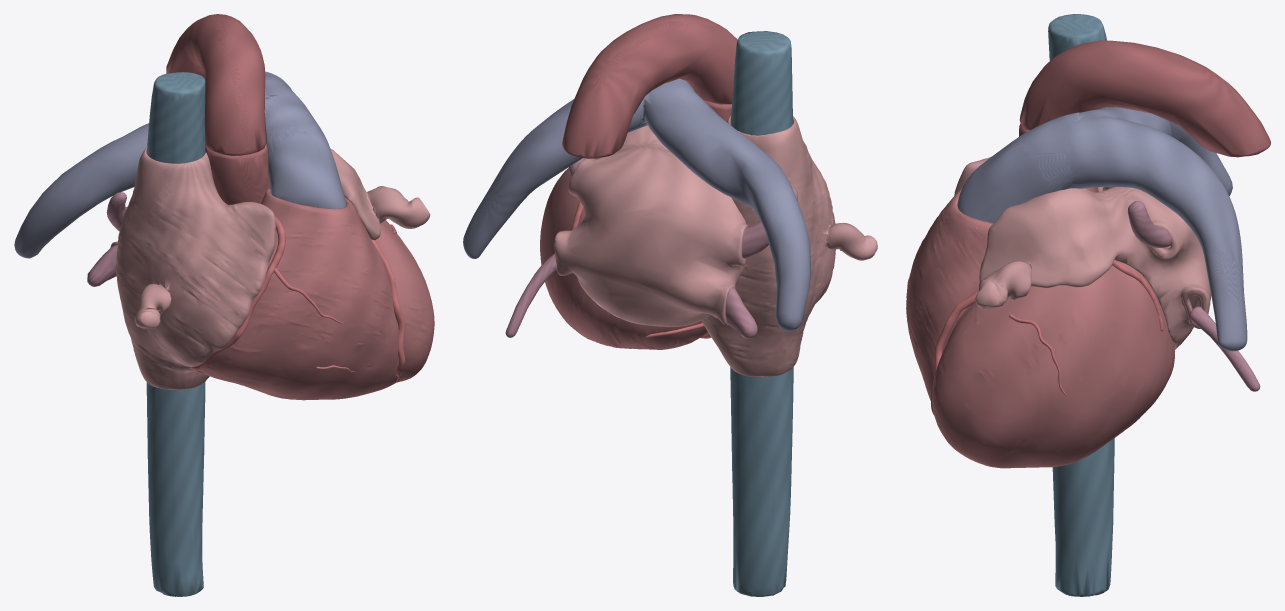
The model's file is cardiotwin-heart-final-v9.glb.
3 views of the same model, side by side, from view 1: azimuth 30°, elevation 25°; view 2: azimuth 150°, elevation 25°; view 3: azimuth 270°, elevation 25° (orthographic). The views are drawn at different scales.
Parts seen in each view (by area): view 1: heart_right_ventricular_wall, heart_right_atrium, heart_aorta, heart_inferior_vena_cava, heart_right_pulmonary_artery, heart_pulmonary_trunk, heart_superior_vena_cava, heart_interventricular_septum, heart_left_pulmonary_artery, heart_left_atrial_appendage, heart_left_ventricular_wall, heart_left_atrium (+5 smaller); view 2: heart_left_atrium, heart_aorta, heart_right_pulmonary_artery, heart_inferior_vena_cava, heart_right_atrium, heart_left_pulmonary_artery, heart_left_ventricular_wall, heart_superior_vena_cava, heart_right_atrial_appendage, heart_left_inferior_pulmonary_vein, heart_right_inferior_pulmonary_vein, heart_right_superior_pulmonary_vein; view 3: heart_left_ventricular_wall, heart_left_atrium, heart_left_pulmonary_artery, heart_aorta, heart_right_ventricular_wall, heart_inferior_vena_cava, heart_pulmonary_trunk, heart_left_atrial_appendage, heart_right_pulmonary_artery, heart_superior_vena_cava, heart_left_inferior_pulmonary_vein, heart_left_superior_pulmonary_vein (+3 smaller).
Boxes of the visible parts, left/top/right/bottom form: heart_right_ventricular_wall: left=197, top=188, right=398, bottom=400; heart_right_atrium: left=116, top=147, right=275, bottom=389; heart_aorta: left=166, top=14, right=270, bottom=204; heart_inferior_vena_cava: left=146, top=381, right=205, bottom=596; heart_right_pulmonary_artery: left=14, top=88, right=284, bottom=258; heart_pulmonary_trunk: left=264, top=94, right=346, bottom=208; heart_superior_vena_cava: left=147, top=72, right=205, bottom=163; heart_interventricular_septum: left=375, top=228, right=425, bottom=381; heart_left_pulmonary_artery: left=265, top=71, right=315, bottom=156; heart_left_atrial_appendage: left=366, top=186, right=430, bottom=228; heart_left_ventricular_wall: left=380, top=220, right=434, bottom=369; heart_left_atrium: left=110, top=149, right=381, bottom=247; heart_left_atrium: left=554, top=125, right=748, bottom=326; heart_aorta: left=562, top=14, right=737, bottom=158; heart_right_pulmonary_artery: left=643, top=78, right=810, bottom=331; heart_inferior_vena_cava: left=730, top=367, right=793, bottom=596; heart_right_atrium: left=701, top=115, right=835, bottom=376; heart_left_pulmonary_artery: left=463, top=91, right=651, bottom=258; heart_left_ventricular_wall: left=540, top=168, right=686, bottom=349; heart_superior_vena_cava: left=730, top=31, right=792, bottom=135; heart_right_atrial_appendage: left=823, top=217, right=877, bottom=260; heart_left_inferior_pulmonary_vein: left=505, top=253, right=557, bottom=337; heart_right_inferior_pulmonary_vein: left=725, top=288, right=757, bottom=338; heart_right_superior_pulmonary_vein: left=742, top=186, right=797, bottom=258; heart_left_ventricular_wall: left=933, top=261, right=1174, bottom=468; heart_left_atrium: left=979, top=187, right=1211, bottom=349; heart_left_pulmonary_artery: left=1028, top=110, right=1247, bottom=351; heart_aorta: left=1019, top=40, right=1270, bottom=192; heart_right_ventricular_wall: left=906, top=188, right=993, bottom=400; heart_inferior_vena_cava: left=1052, top=438, right=1114, bottom=596; heart_pulmonary_trunk: left=957, top=111, right=1088, bottom=223; heart_left_atrial_appendage: left=975, top=260, right=1031, bottom=310; heart_right_pulmonary_artery: left=1057, top=107, right=1232, bottom=195; heart_superior_vena_cava: left=1048, top=14, right=1107, bottom=107; heart_left_inferior_pulmonary_vein: left=1190, top=306, right=1260, bottom=391; heart_left_superior_pulmonary_vein: left=1127, top=201, right=1170, bottom=247.
Size of the model in its own units: 13.8 by 22.21 by 12.67.
Materials: 50 (50 with a texture image).
